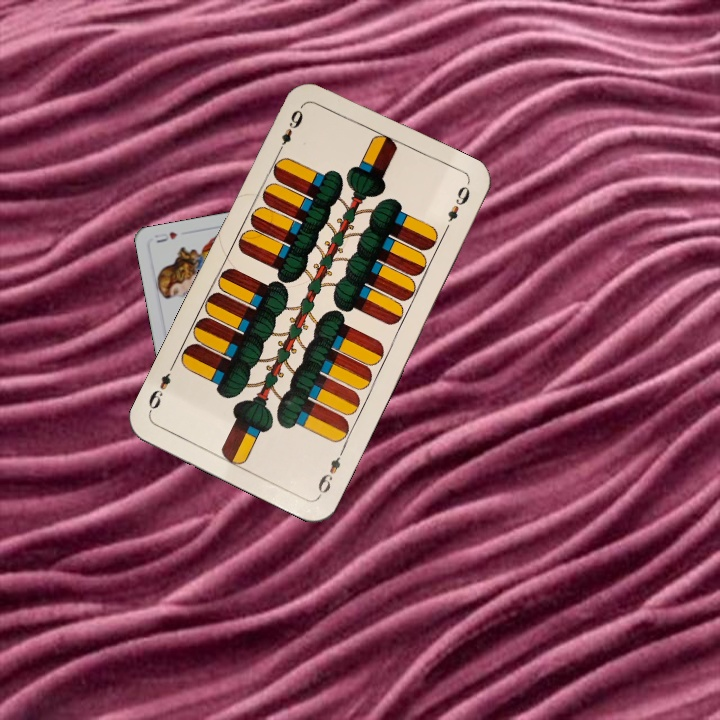E9: (313, 444, 348, 499), (273, 101, 306, 156)
